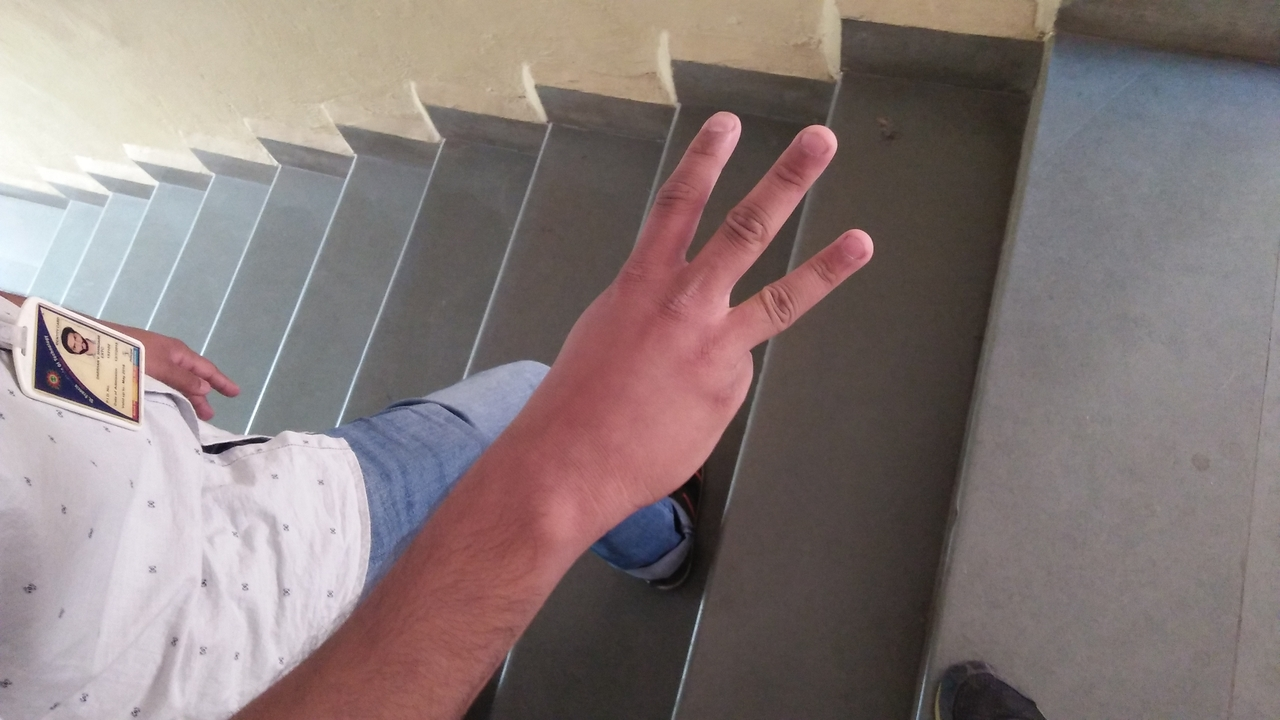fingertip: (812, 216, 884, 272), (782, 112, 848, 166), (686, 102, 748, 152)
